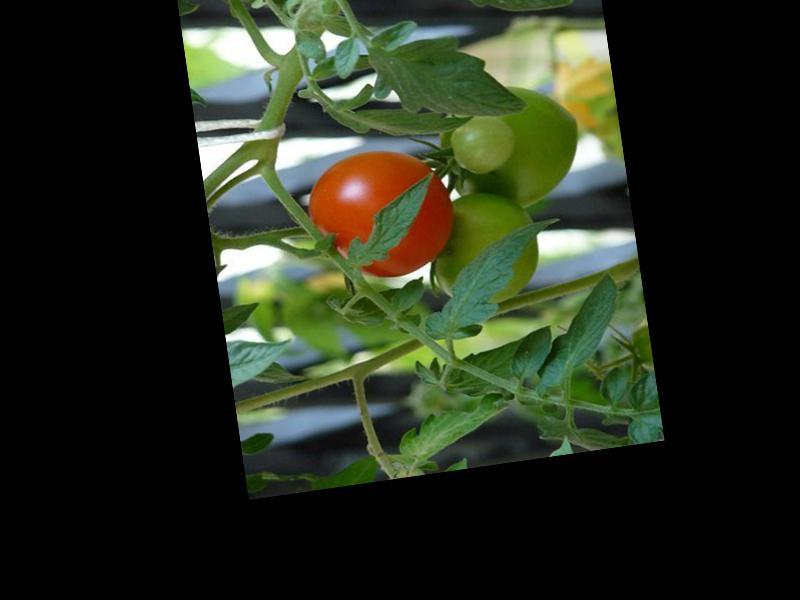Tomato: (301, 141, 459, 287)
